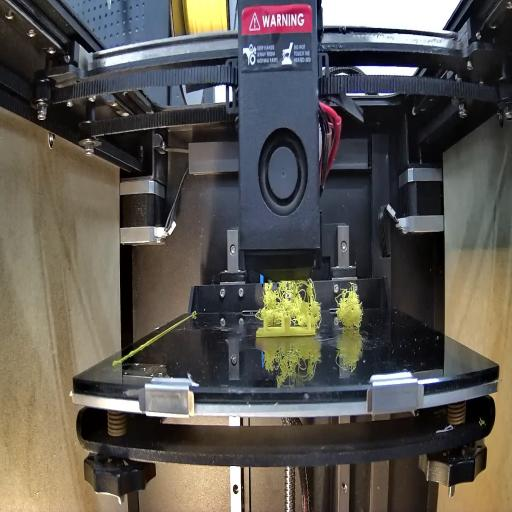spaghetti: (255, 276, 322, 324), (334, 282, 364, 326)
